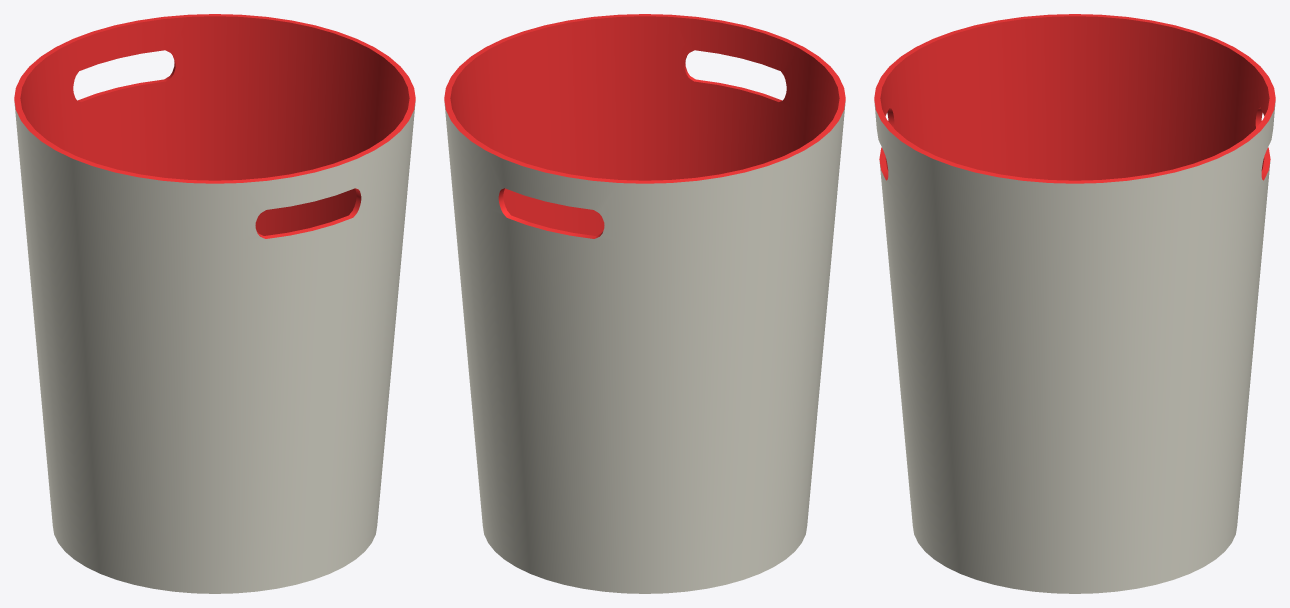
Rendered from bin.fbx.
3 views of the same model, side by side, from view 1: azimuth 30°, elevation 25°; view 2: azimuth 150°, elevation 25°; view 3: azimuth 270°, elevation 25° (orthographic).
Parts seen in each view (by area): view 1: Cone001; view 2: Cone001; view 3: Cone001.
Boxes of the visible parts, x1,y1,x2,y2 form: Cone001: [14, 14, 415, 593]; Cone001: [444, 14, 845, 593]; Cone001: [874, 14, 1275, 593].
Bounding box in the file's own units: 9.11 × 10.69 × 9.11.
